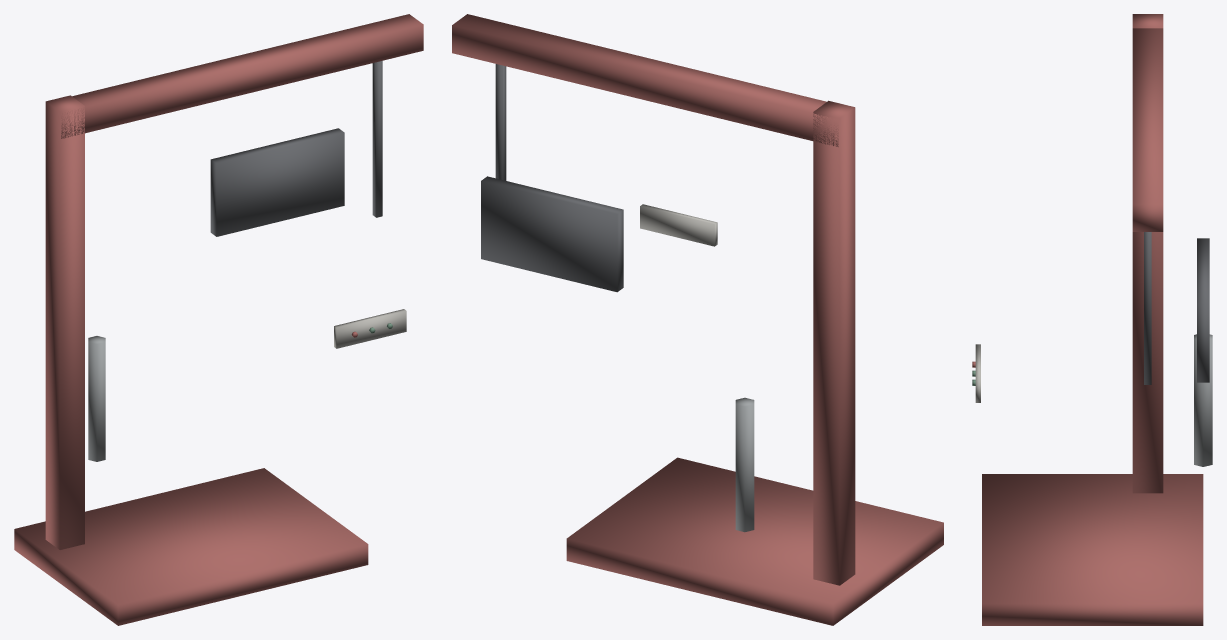
File: chain_hoist__service.glb
3 views of the same model, side by side, from view 1: azimuth 30°, elevation 25°; view 2: azimuth 150°, elevation 25°; view 3: azimuth 270°, elevation 25° (orthographic). The views are drawn at different scales.
Visible parts, largest first — view 1: world; view 2: world; view 3: world.
Part boxes in pixels (box(x1,y1,x2,y2)): world: box(14, 14, 423, 625); world: box(452, 14, 943, 625); world: box(972, 14, 1212, 625).
Bounding box in the file's own units: 1.5 × 1.75 × 0.7813.
